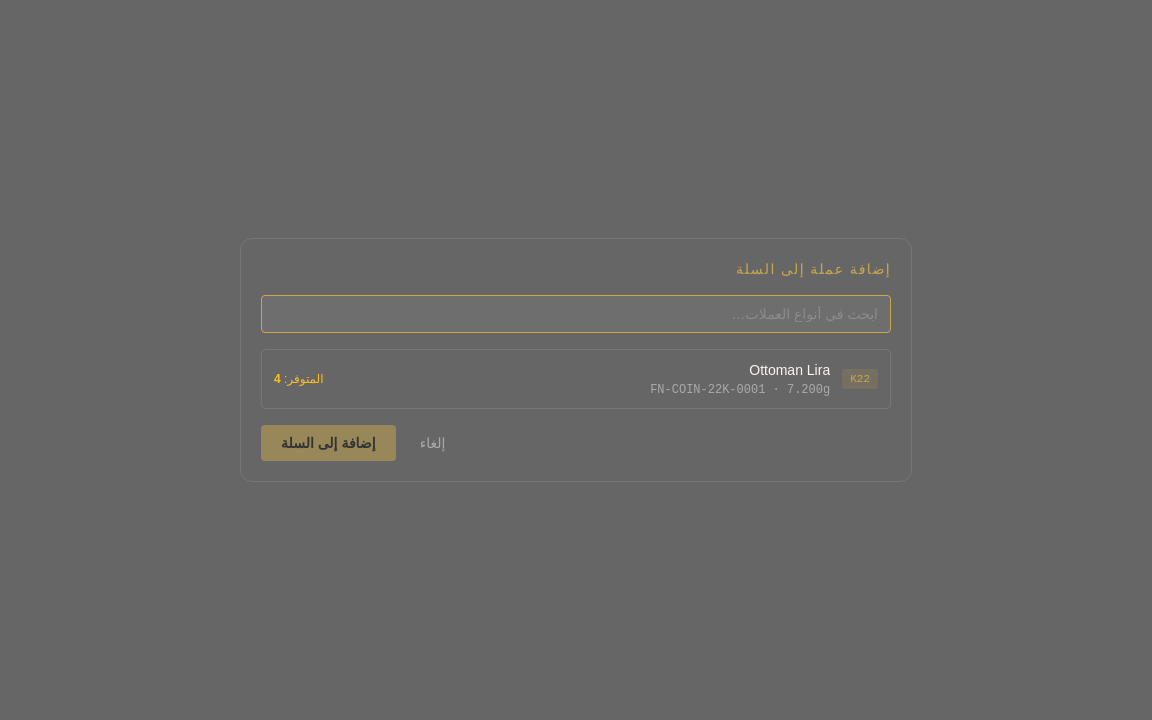
Test case: AddUnitDialog — labels and i18n (NEX-64) › Arabic: list, selection, quantity and buttons — no English left
Expected: the text "إضافة عملة إلى السلة" is shown, [736,261,891,277]
Expected: the field labelled "ابحث في أنواع العملات…" is shown, [261,295,891,333]
Click the button "K22 Ottoman Lira FN-COIN-22K-0001 · 7.200g المتوفر: 4" at (860, 379), box [262,350,890,408]
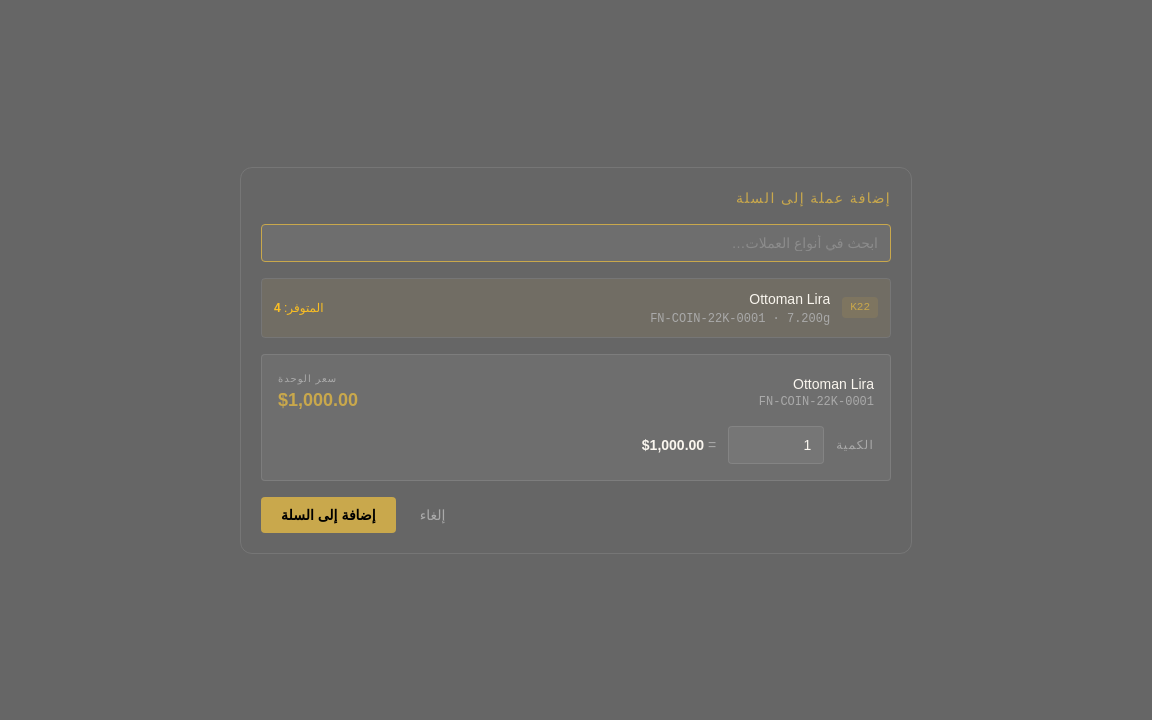
Expected: the text "سعر الوحدة" is shown, [278,372,337,384]
Expected: the number field labelled "الكمية" is shown, [728,426,824,464]
Expected: the button "إضافة إلى السلة" is enabled, [261,496,396,532]
Type "zzz" into the field labelled "ابحث في أنواع العملات…" at (576, 242), box [261,224,891,262]
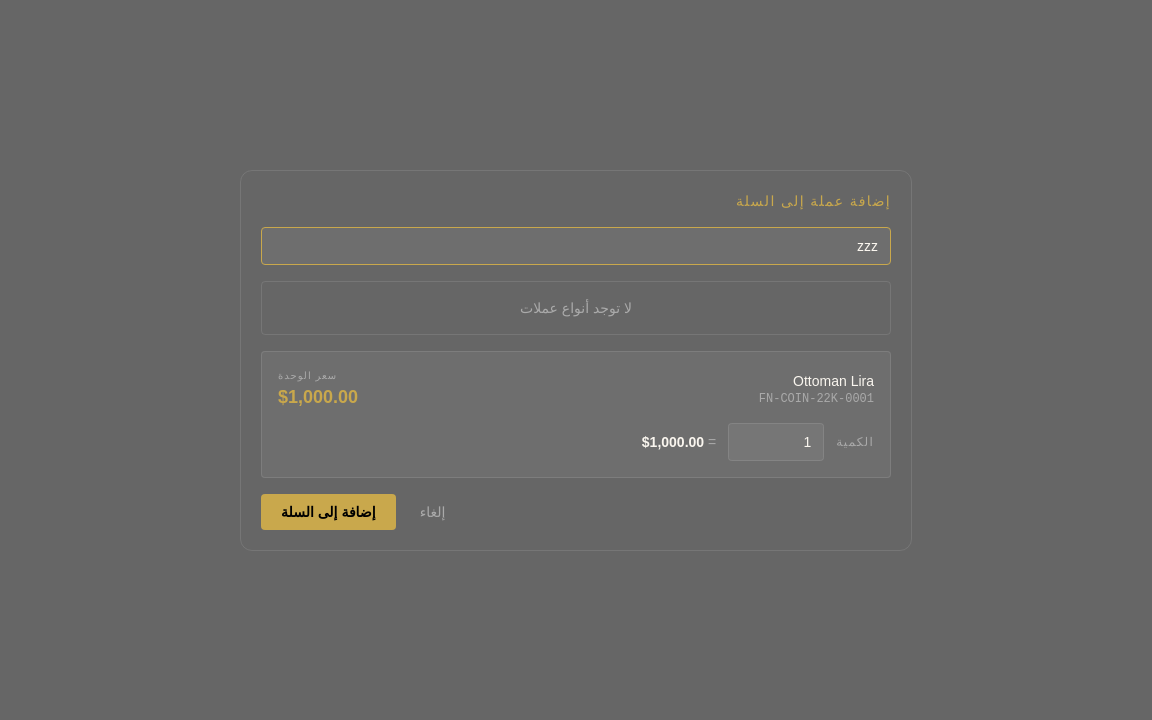
Expected: the text "لا توجد أنواع عملات" is shown, [520,300,632,316]
